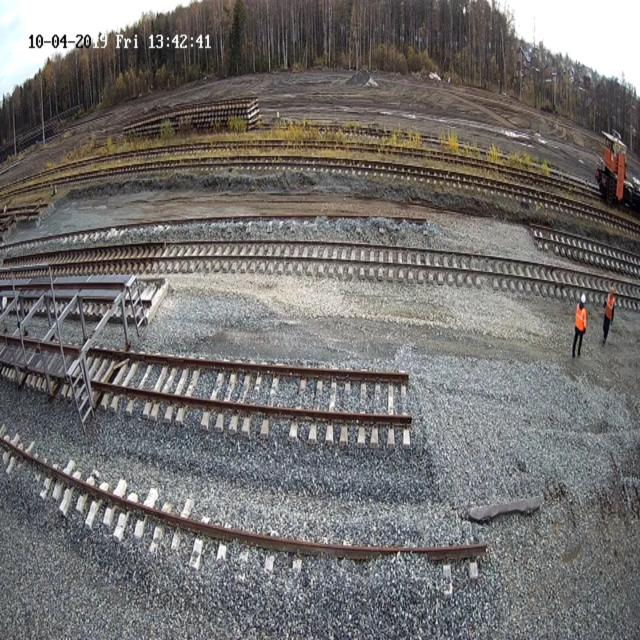Helmet: (580, 294, 586, 304)
Person: (602, 286, 616, 345), (572, 300, 586, 357)
